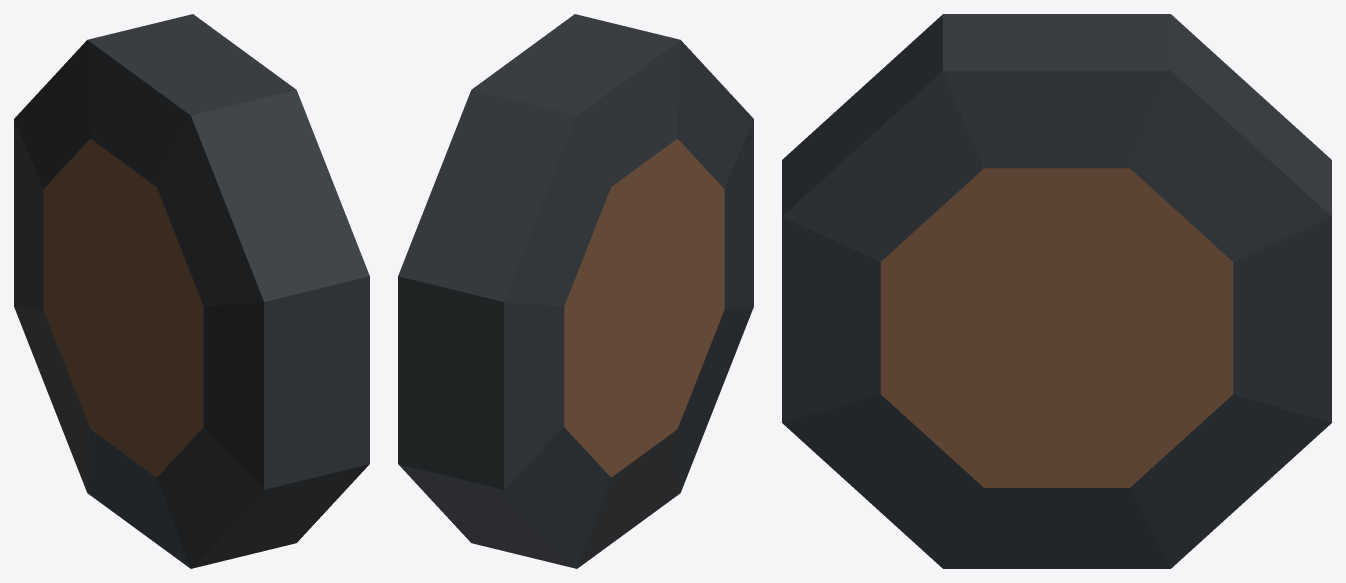
The model's file is SM_Prop_ShoppingCart_Wheel_rl.obj.
The picture shows the model from 3 angles, left to right: view 1: azimuth 30°, elevation 25°; view 2: azimuth 150°, elevation 25°; view 3: azimuth 270°, elevation 25°; orthographic projection. The views are drawn at different scales.
Visible parts, largest first — view 1: SM_Prop_ShoppingCart_Wheel_rl_0; view 2: SM_Prop_ShoppingCart_Wheel_rl_0; view 3: SM_Prop_ShoppingCart_Wheel_rl_0.
Boxes of the visible parts, x1=… form: SM_Prop_ShoppingCart_Wheel_rl_0: x1=14, y1=14, x2=369, y2=568; SM_Prop_ShoppingCart_Wheel_rl_0: x1=398, y1=14, x2=753, y2=568; SM_Prop_ShoppingCart_Wheel_rl_0: x1=782, y1=14, x2=1331, y2=568.
Size of the model in its own units: 0.0473 by 0.1499 by 0.1499.
1 material, 1 textured.
